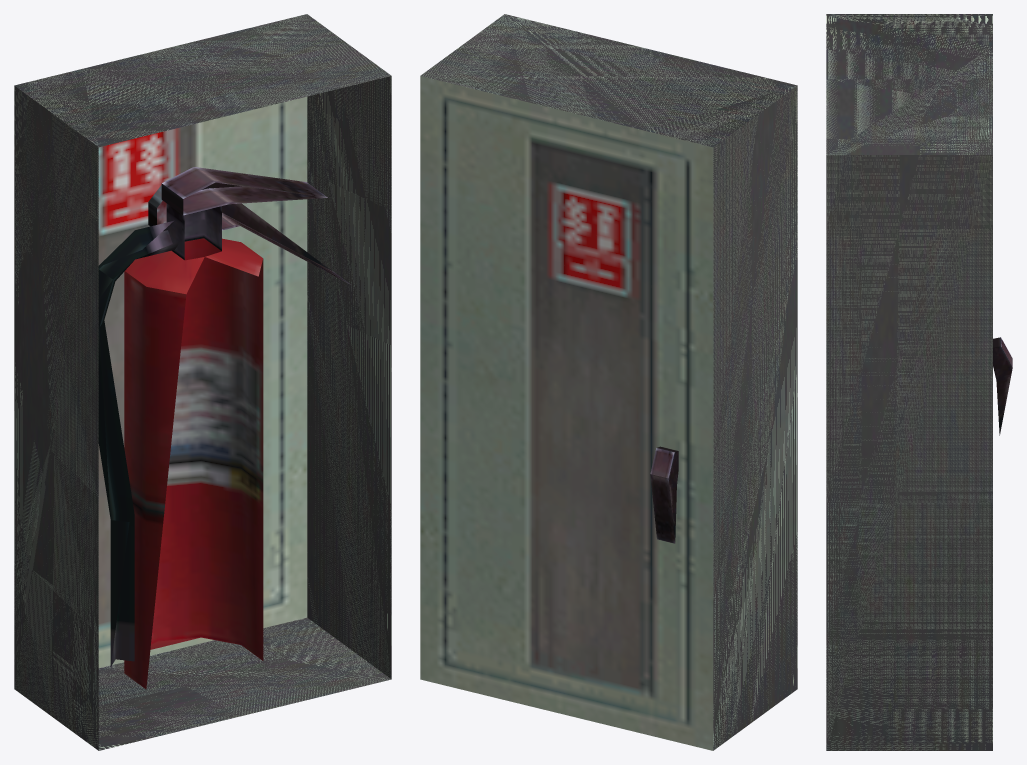
Rendered from fire_extinguisher_box.fbx.
3 renders of one model, left to right at view 1: azimuth 30°, elevation 25°; view 2: azimuth 150°, elevation 25°; view 3: azimuth 270°, elevation 25°, orthographic.
Visible parts, largest first — view 1: mesh_0, mesh_2, mesh_1; view 2: mesh_2, mesh_0, mesh_1; view 3: mesh_0, mesh_2, mesh_1.
Boxes of the visible parts, bbox=[...] form: mesh_0: bbox=[14, 14, 391, 750]; mesh_2: bbox=[14, 16, 391, 749]; mesh_1: bbox=[98, 167, 350, 688]; mesh_2: bbox=[420, 14, 797, 750]; mesh_0: bbox=[420, 14, 797, 750]; mesh_1: bbox=[650, 446, 678, 543]; mesh_0: bbox=[826, 14, 992, 750]; mesh_2: bbox=[826, 14, 992, 750]; mesh_1: bbox=[993, 337, 1012, 435].
Bounding box in the file's own units: 32 × 63 × 17.88.
3 materials, 3 textured.
